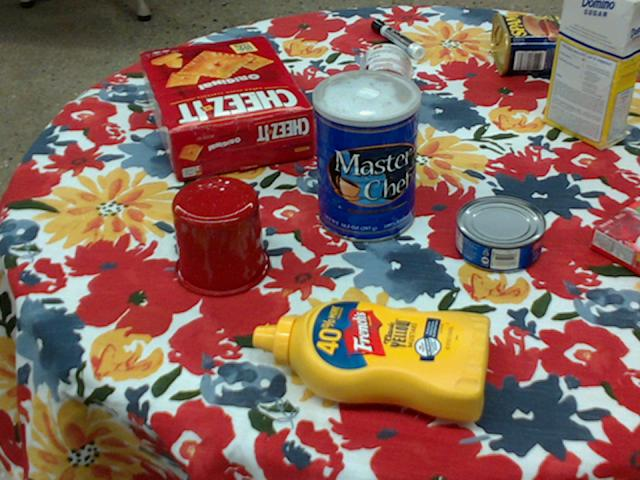cracker_box: (141, 35, 315, 178)
gelatin_box: (590, 199, 639, 275)
large_marker: (372, 17, 424, 57)
master_chef_can: (311, 69, 419, 242)
mug: (170, 175, 271, 297)
mustard_bottle: (253, 299, 493, 420)
potted_meat_can: (490, 10, 568, 73)
sugar_box: (542, 0, 639, 150)
tomato_soup_can: (356, 41, 413, 128)
tuna_fish_can: (456, 196, 547, 273)
